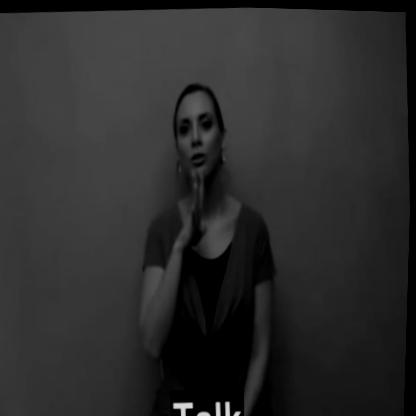Talk: (160, 83, 251, 259)
